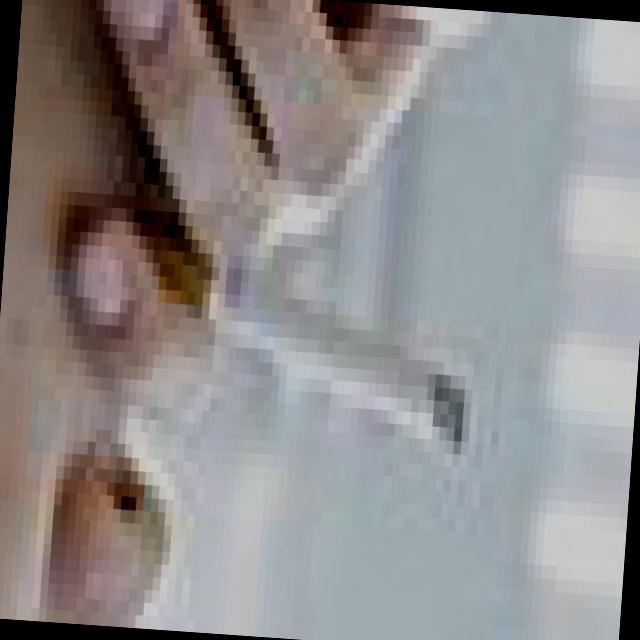cigarette: (121, 163, 508, 475)
